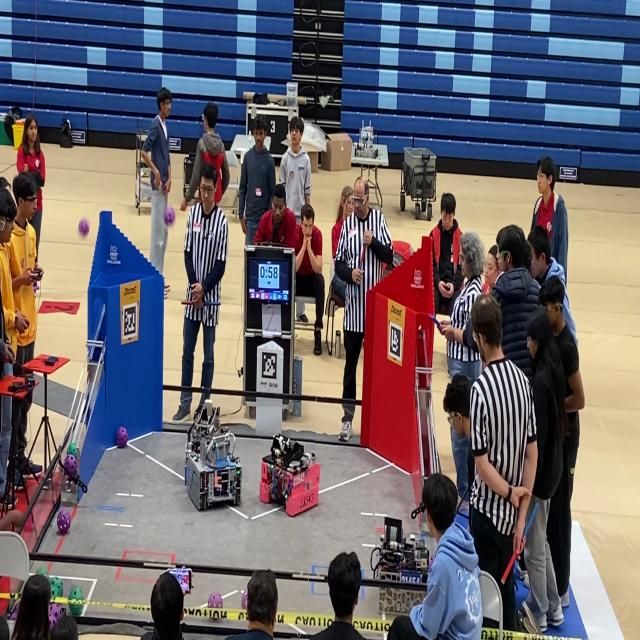artifact_green: (49, 603, 64, 632), (69, 587, 83, 616), (50, 577, 63, 598), (9, 600, 20, 622), (36, 568, 50, 580), (67, 443, 77, 457)
artifact_purple: (49, 603, 63, 631), (57, 509, 70, 535), (64, 454, 77, 478), (116, 427, 128, 448), (208, 592, 222, 608), (164, 206, 175, 226), (78, 218, 89, 237), (10, 602, 19, 621), (241, 589, 248, 610), (33, 282, 40, 293), (429, 556, 434, 569)
